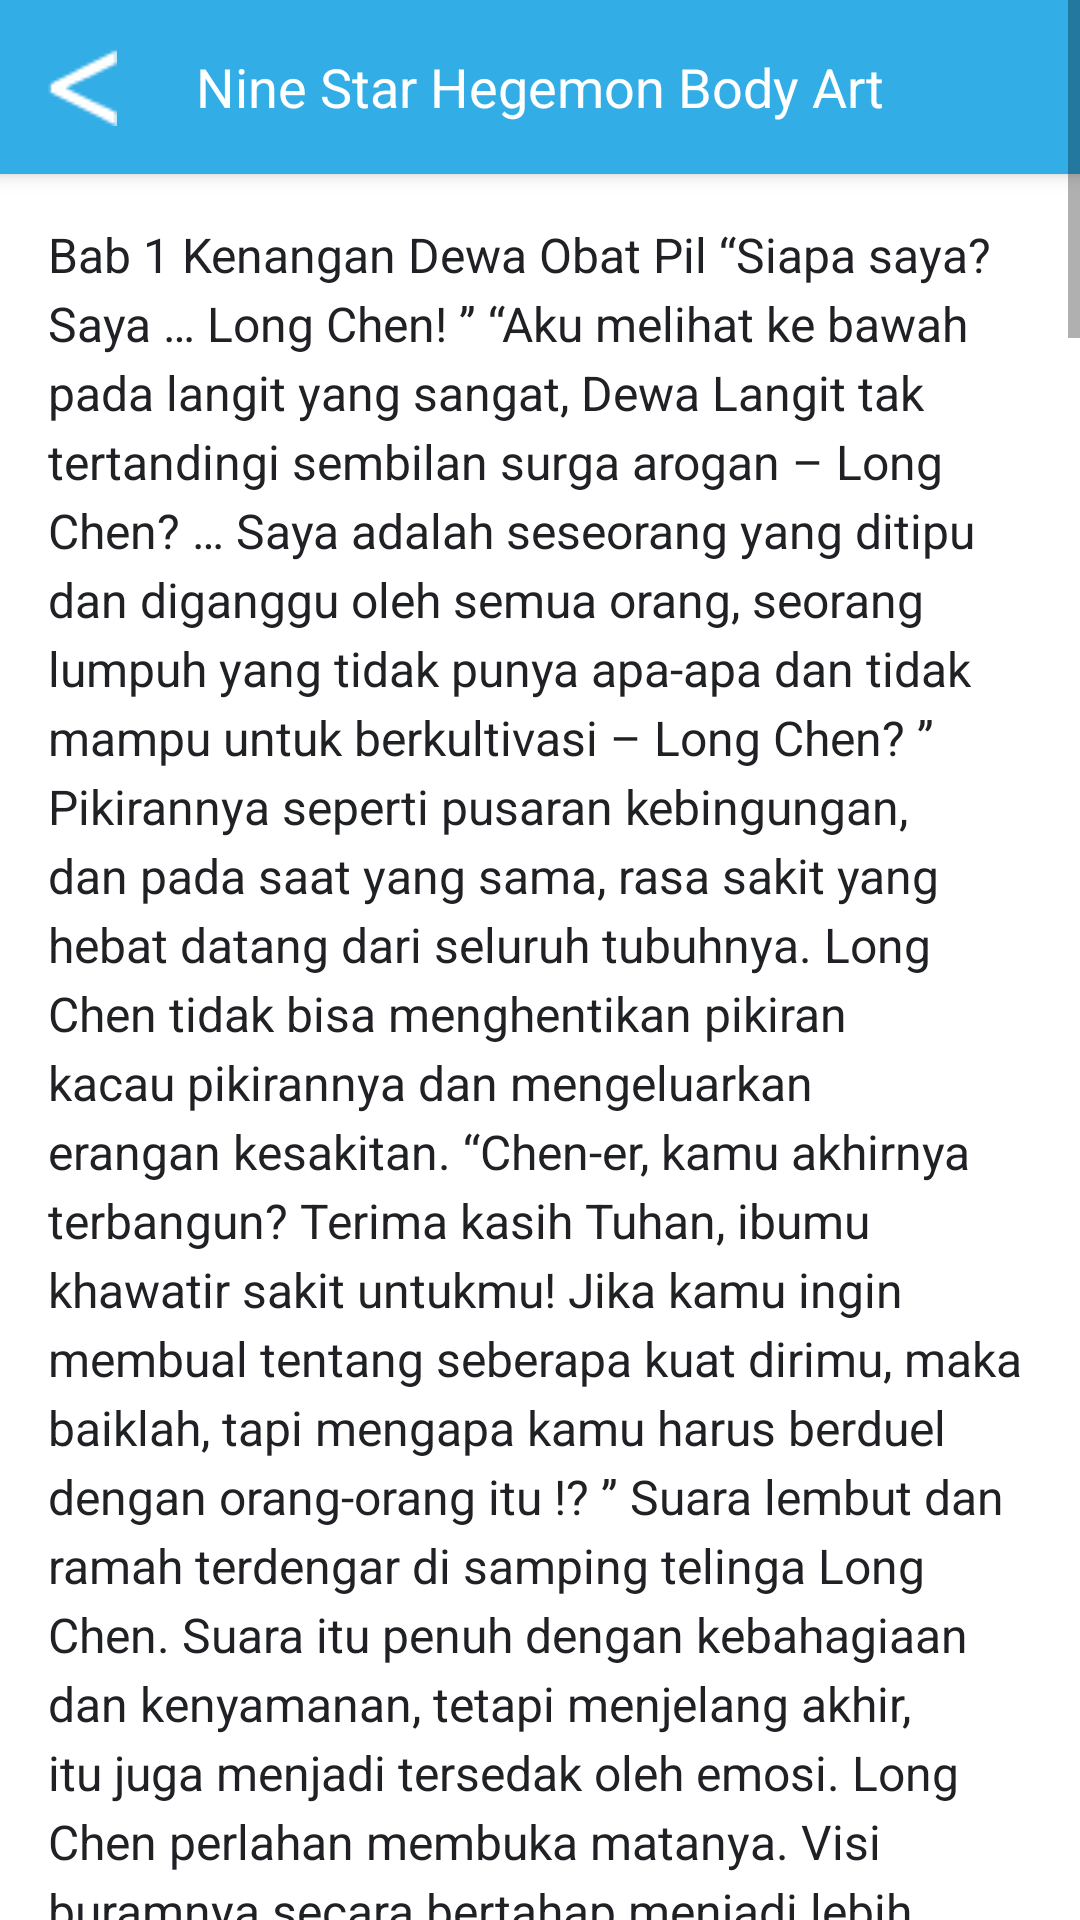

Named icons in this screenshot (1080x1920) and their centers, (x,y):
back: (82,88)
